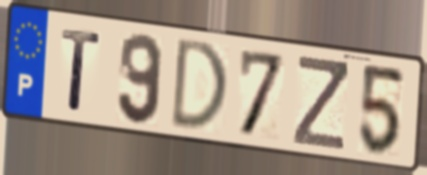5: (355, 60, 408, 160)
7: (236, 45, 289, 140)
9: (117, 30, 165, 128)
D: (167, 36, 231, 133)
T: (59, 24, 103, 115)
Z: (290, 52, 350, 153)
